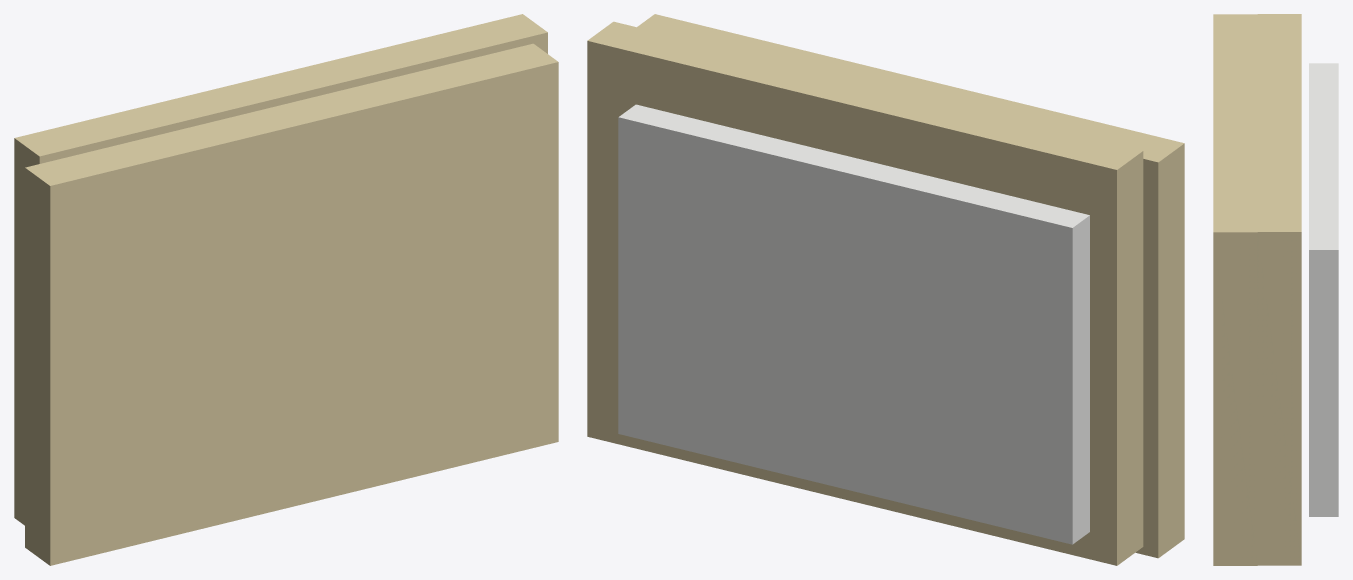
File: evidence_folder_stack.glb
3 renders of one model, left to right at view 1: azimuth 30°, elevation 25°; view 2: azimuth 150°, elevation 25°; view 3: azimuth 270°, elevation 25°, orthographic. The views are drawn at different scales.
Parts seen in each view (by area): view 1: folder1, folder2; view 2: doc, folder2, folder1; view 3: folder1, folder2, doc.
Boxes of the visible parts, <box> form: folder1: <box>25,43,558,565</box>; folder2: <box>14,14,547,525</box>; doc: <box>618,104,1089,544</box>; folder2: <box>587,21,1143,565</box>; folder1: <box>637,14,1184,558</box>; folder1: <box>1213,14,1257,565</box>; folder2: <box>1257,14,1301,565</box>; doc: <box>1309,63,1338,516</box>.
Size of the model in its own units: 0.7202 by 0.51 by 0.17.
